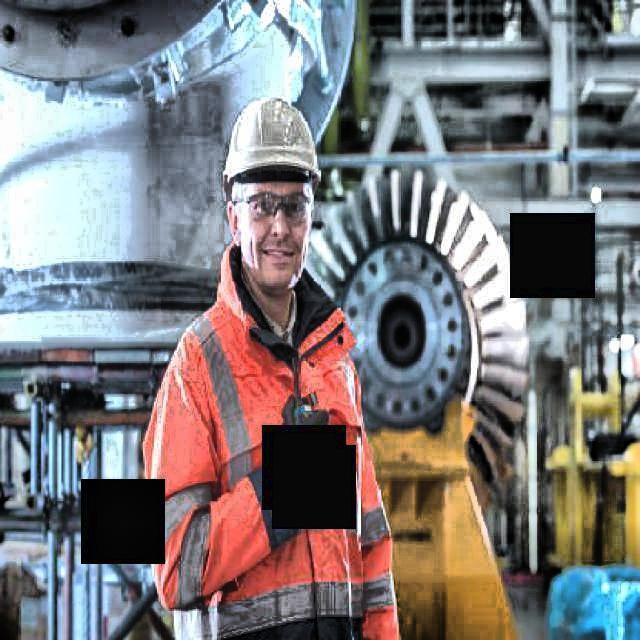safety_helmet: (221, 93, 322, 189)
safety_jacket: (144, 243, 399, 640)
